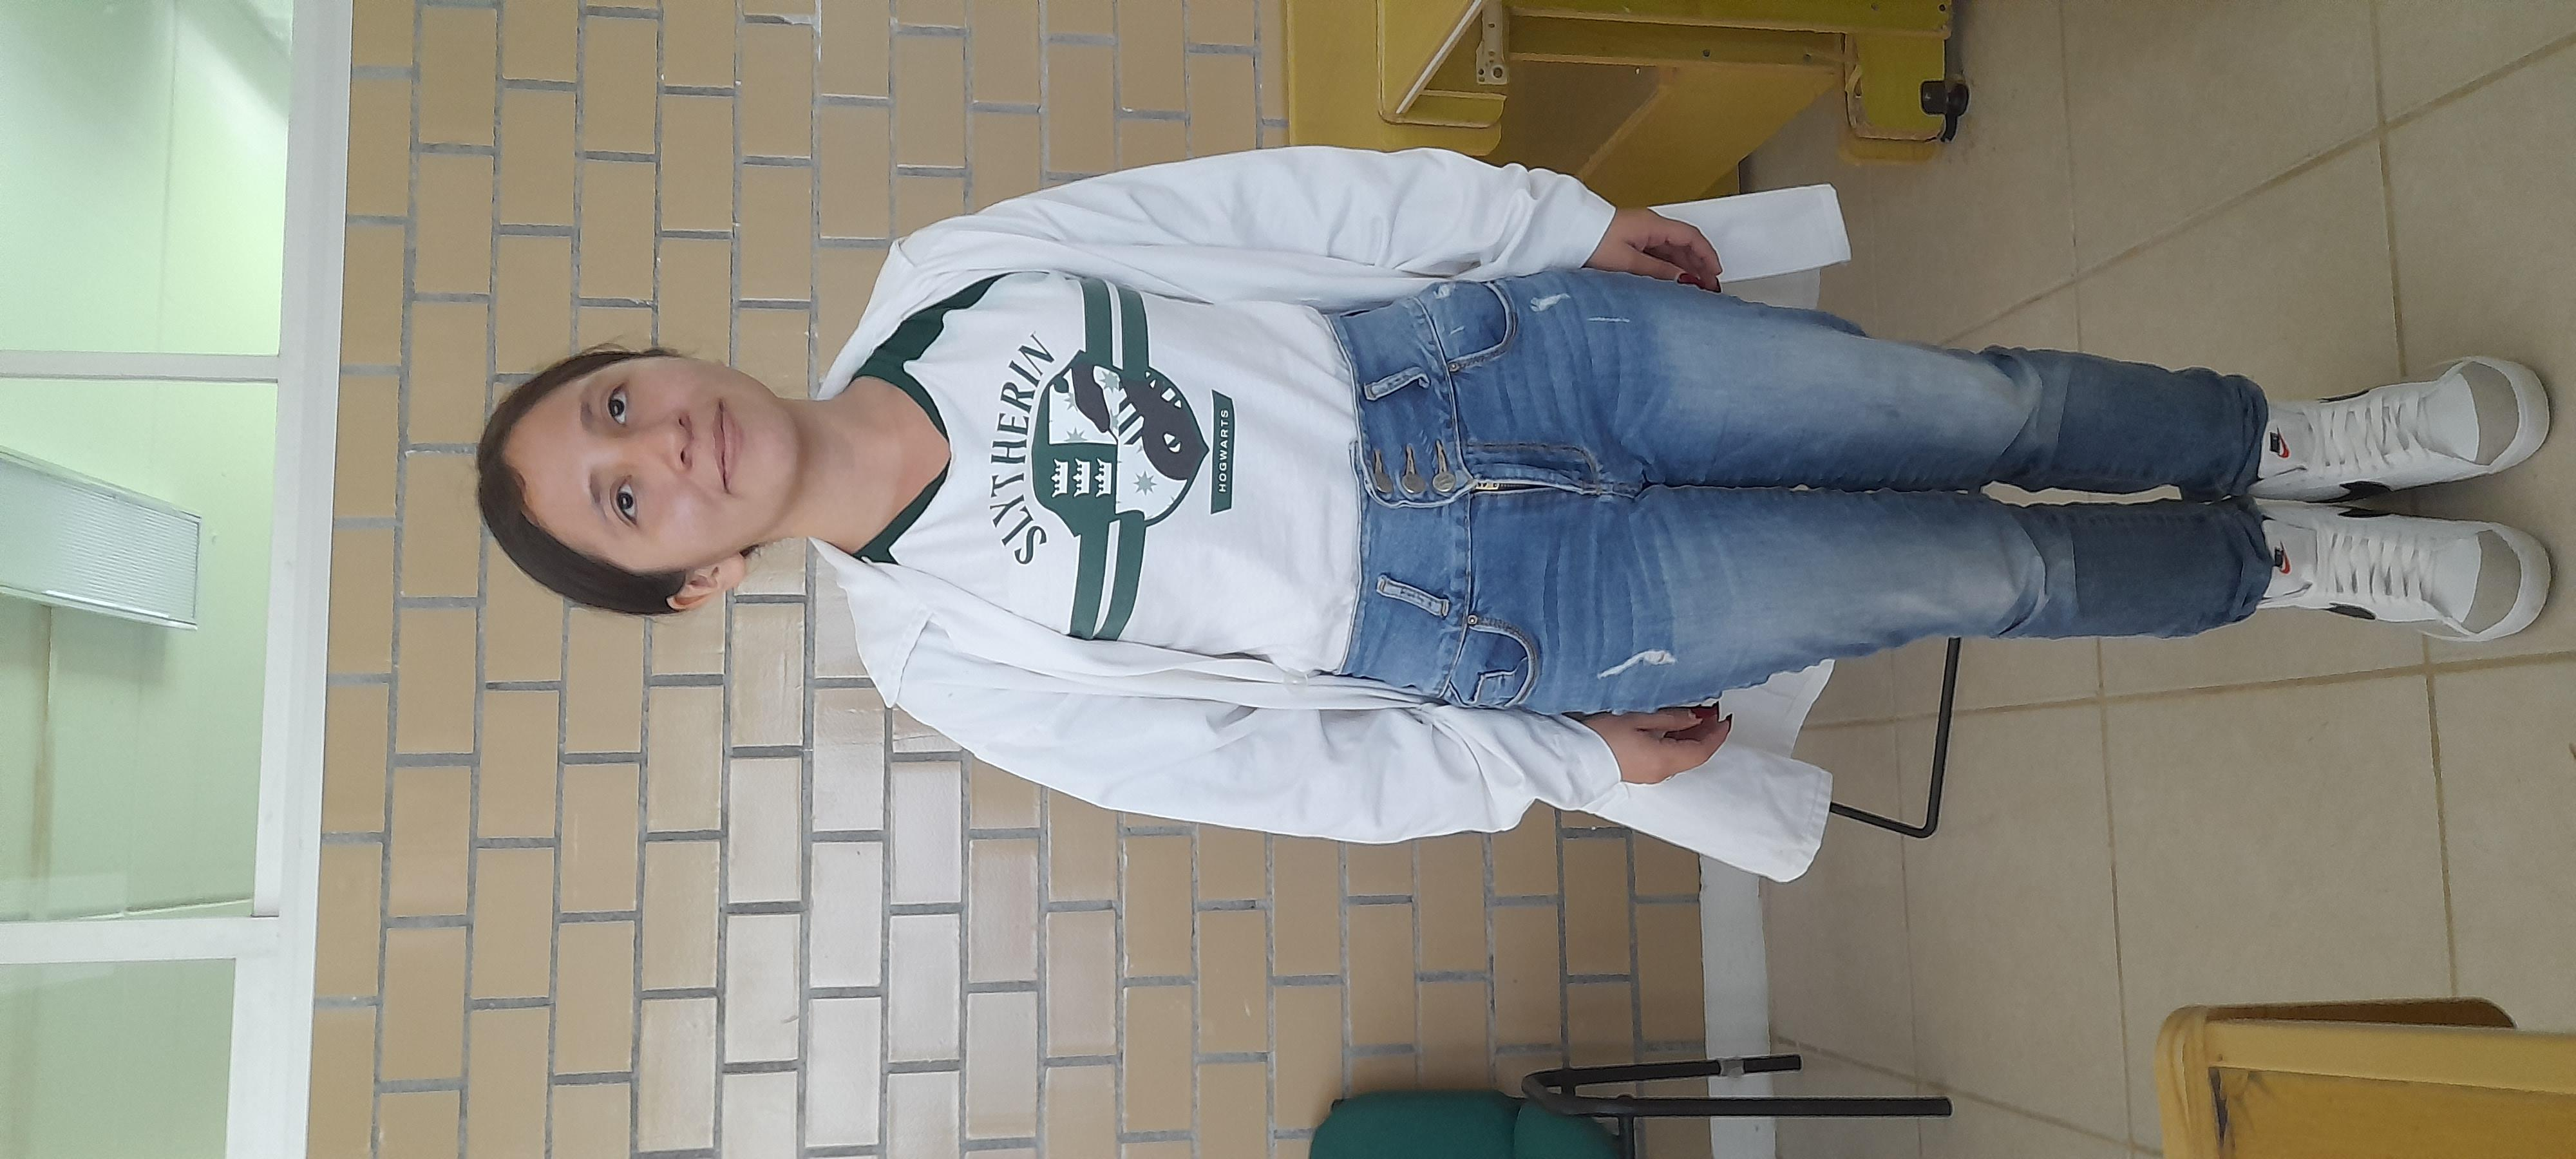Bata-Incorrecta: (529, 177, 2318, 1159)
